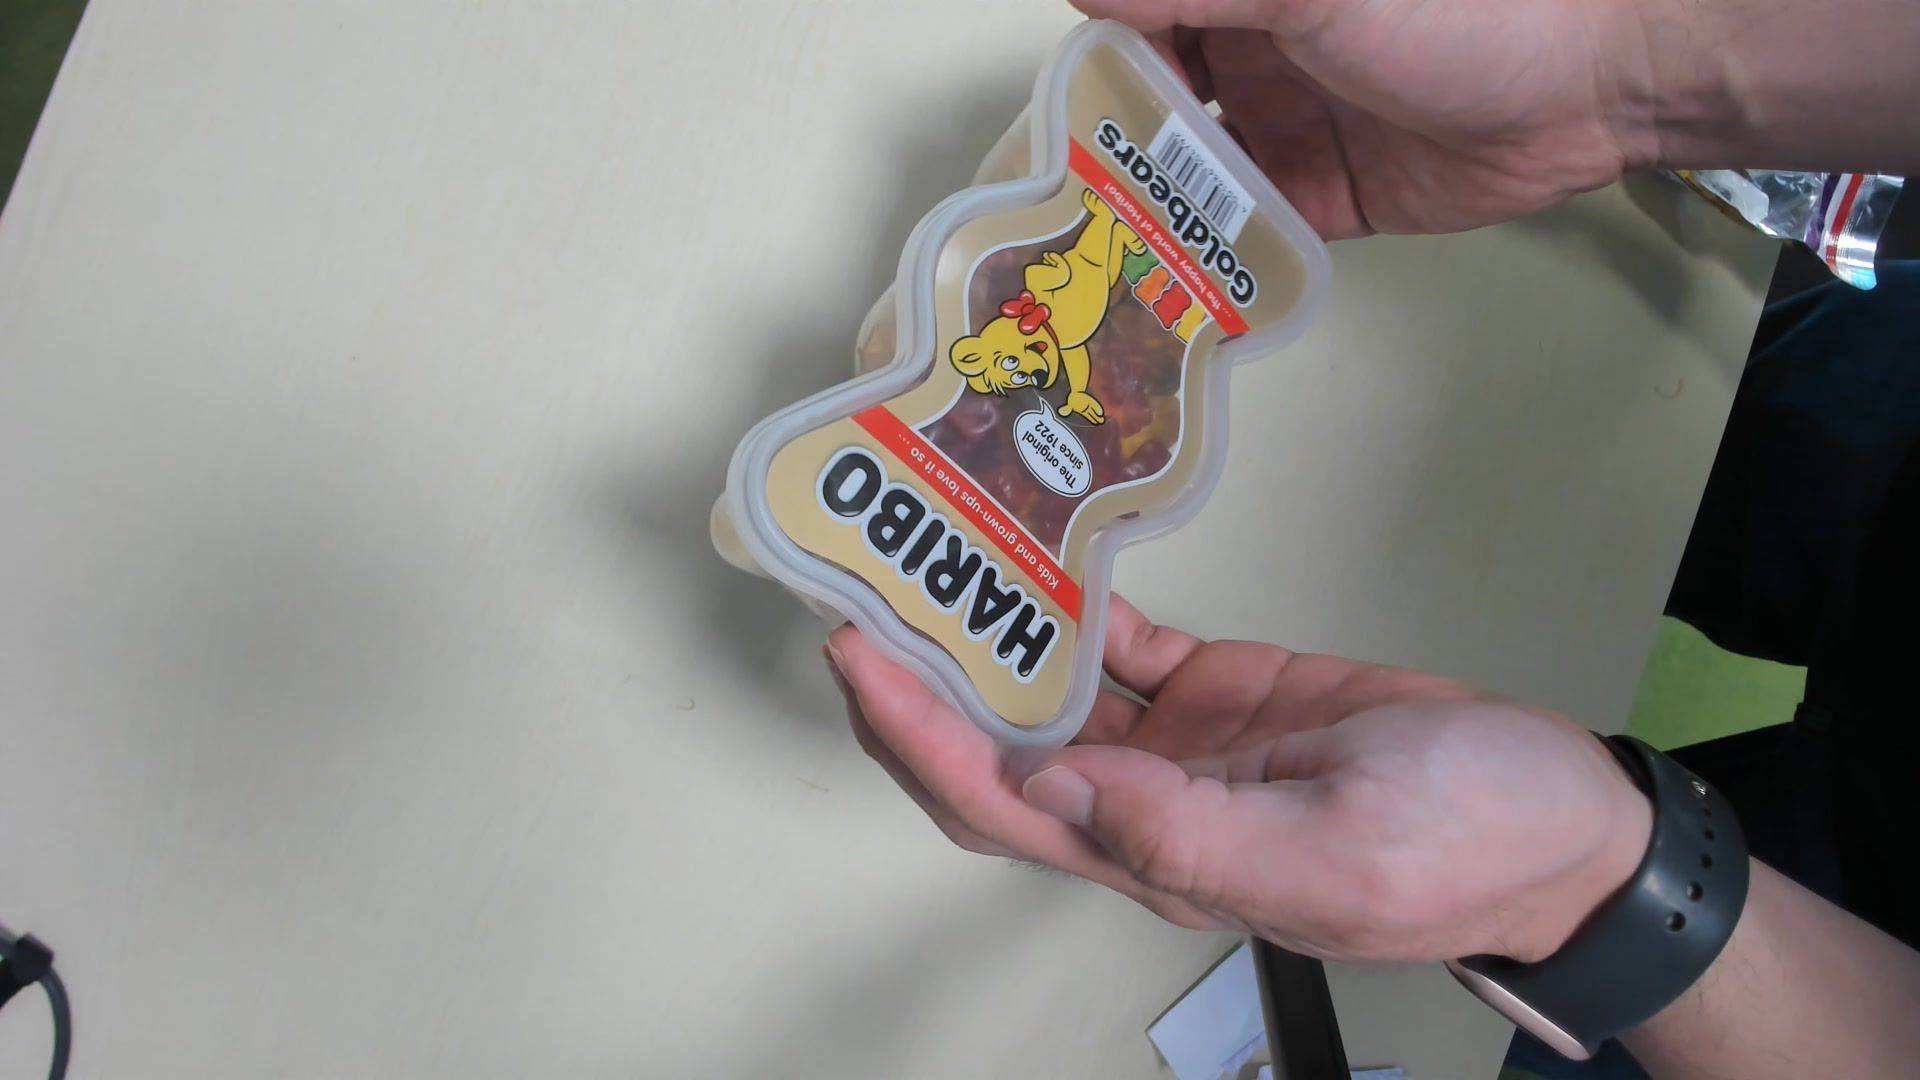SweetsChocolatesOthers_400-499g_NonHalal_Nonhealthy: (713, 8, 1323, 748)
